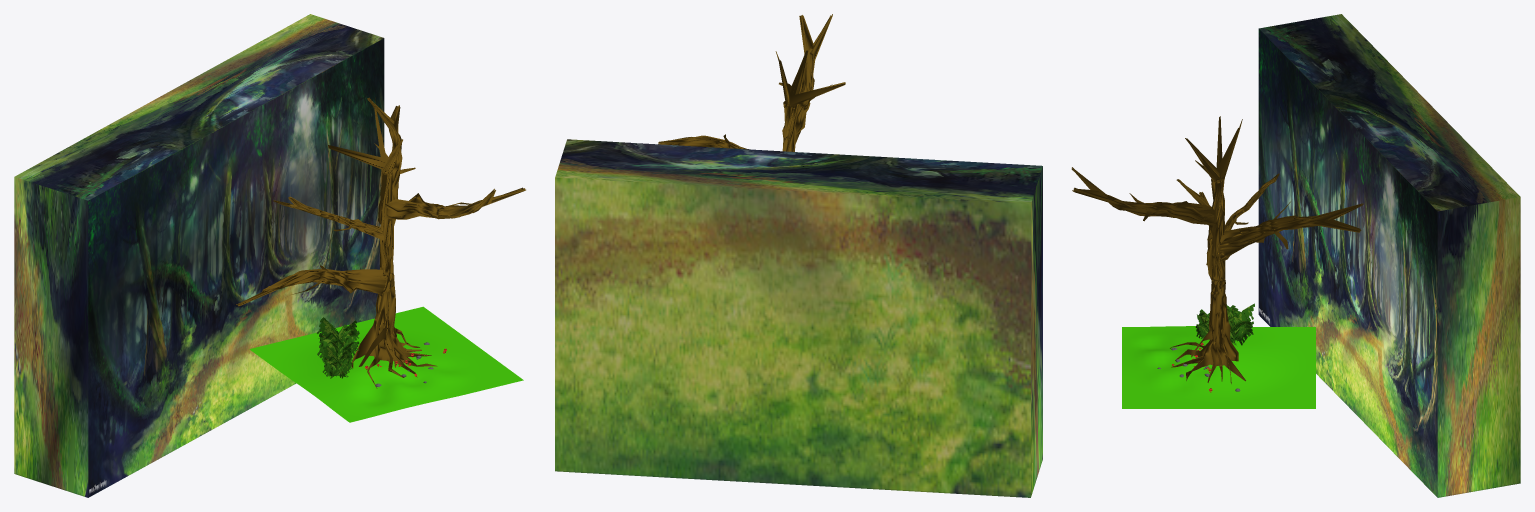
Rendered from Jungle_FBX.obj.
3 views of the same model, side by side, from view 1: azimuth 30°, elevation 25°; view 2: azimuth 150°, elevation 25°; view 3: azimuth 270°, elevation 25° (orthographic). The views are drawn at different scales.
Parts seen in each view (by area): view 1: pCube1, pPlane1, polySurface3, bush02:Bush01, Bush03; view 2: pCube1, polySurface3; view 3: pCube1, pPlane1, polySurface3, bush02:Bush01.
Part boxes in pixels (<box>): pCube1: <box>14,14,384,497</box>; pPlane1: <box>249,306,523,422</box>; polySurface3: <box>236,97,525,388</box>; bush02:Bush01: <box>317,317,359,364</box>; Bush03: <box>322,345,352,378</box>; pCube1: <box>555,139,1042,497</box>; polySurface3: <box>658,14,845,151</box>; pCube1: <box>1258,14,1520,497</box>; pPlane1: <box>1122,326,1315,408</box>; polySurface3: <box>1071,116,1363,383</box>; bush02:Bush01: <box>1226,303,1254,345</box>.
Bounding box in the file's own units: 182 × 140 × 175.
6 materials, 3 textured.
